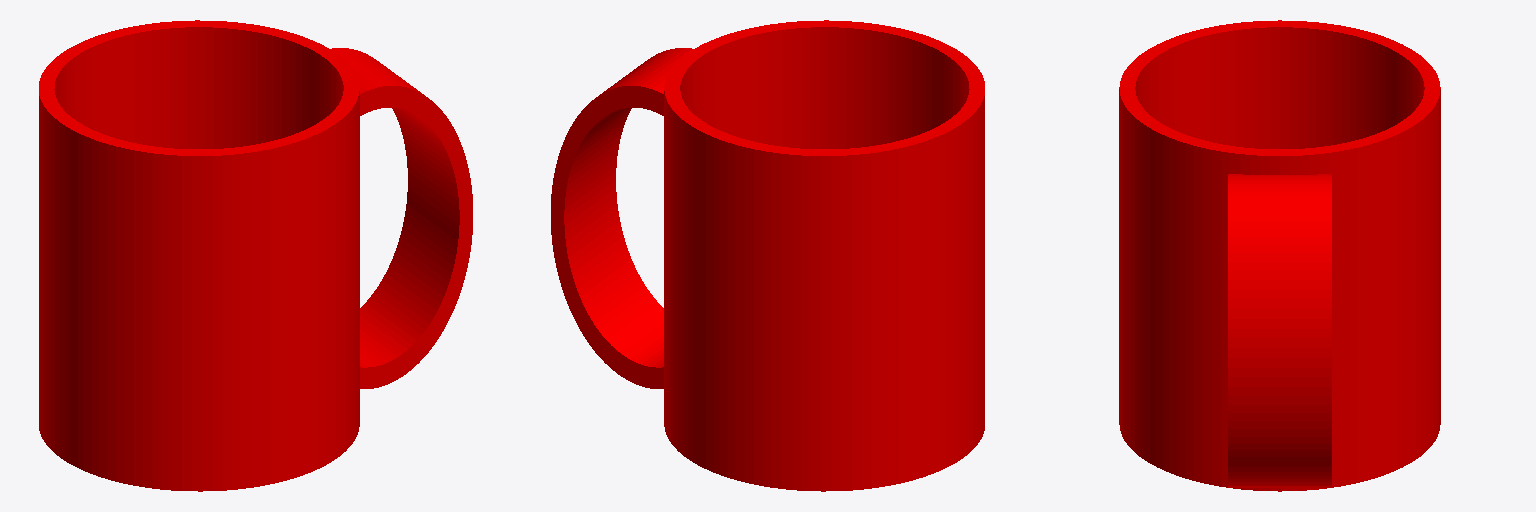
The robot description file, URDF, robot "mug.urdf":
<?xml version="1.0" ?>
<robot name="mug.urdf">
  <link name="baseLink">
    <inertial>
      <origin rpy="0 0 0" xyz="0 0 0"/>
       <mass value=".1"/>
       <inertia ixx="1" ixy="0" ixz="0" iyy="1" iyz="0" izz="1"/>
    </inertial>
    <contact>
      <lateral_friction value="1.0"/>
      <inertia_scaling value="3.0"/>
    </contact>
    <visual>
      <origin rpy="0 0 0" xyz="0 0 0"/>
      <geometry>
        <mesh filename="17.stl" scale="1 1 1" />
      </geometry>
      <material name="red">
        <color rgba="1 0 0 1"/>
      </material>
    </visual>
    <collision>
      <origin rpy="0 0 0" xyz="0 0 0"/>
      <geometry>
        <mesh filename="17_convex.obj" scale="1 1 1" />
      </geometry>
    </collision>
  </link>
</robot>

--- What the picture shows (computed from the rendered views, not written in the file) ---
The picture shows the robot from 3 angles, left to right: view 1: azimuth 30°, elevation 25°; view 2: azimuth 150°, elevation 25°; view 3: azimuth 270°, elevation 25°; orthographic projection.
Model mug.urdf with 1 links and 0 joints (none), rooted at baseLink, posed all joints at 0.
Visible links, largest first — view 1: baseLink; view 2: baseLink; view 3: baseLink.
Boxes of the visible links, left/top/right/bottom form: baseLink: left=39, top=20, right=472, bottom=491; baseLink: left=551, top=20, right=984, bottom=491; baseLink: left=1119, top=20, right=1440, bottom=491.
Size in the robot's own frame: 0.1403 by 0.1007 by 0.116 metres.
1 mesh visuals loaded from 1 distinct referenced files (1 binary STL).